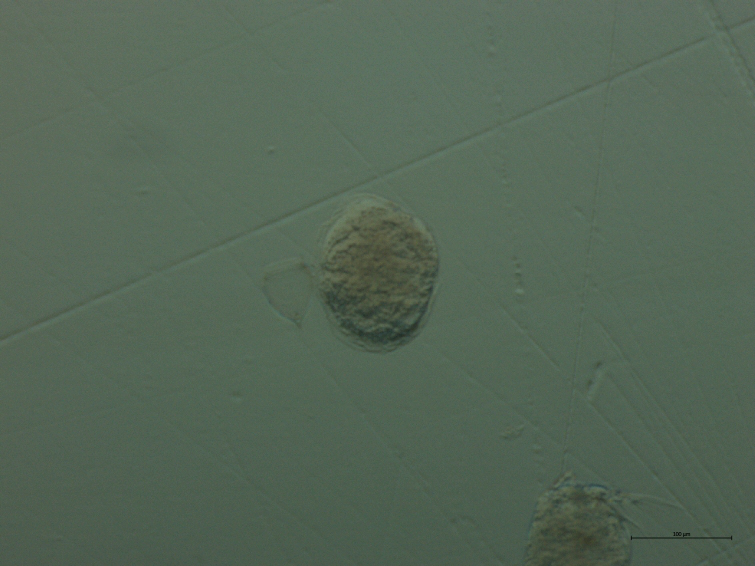oyster: (307, 188, 459, 364)
